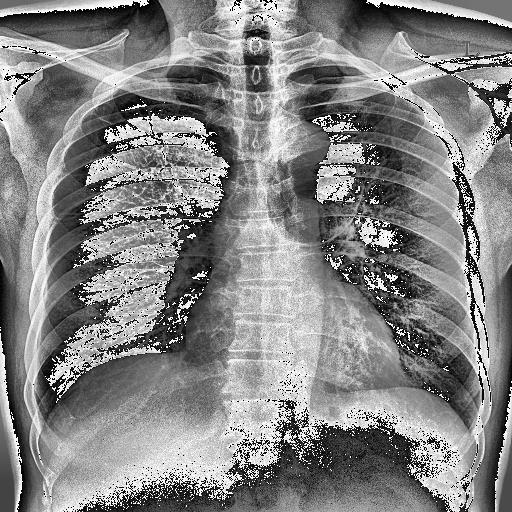13- Pulmonary fibrosis: (312, 180, 376, 250), (80, 110, 116, 126)
5- ILD: (56, 96, 182, 223), (321, 102, 426, 252)
9- Other lesion: (48, 94, 196, 246)
